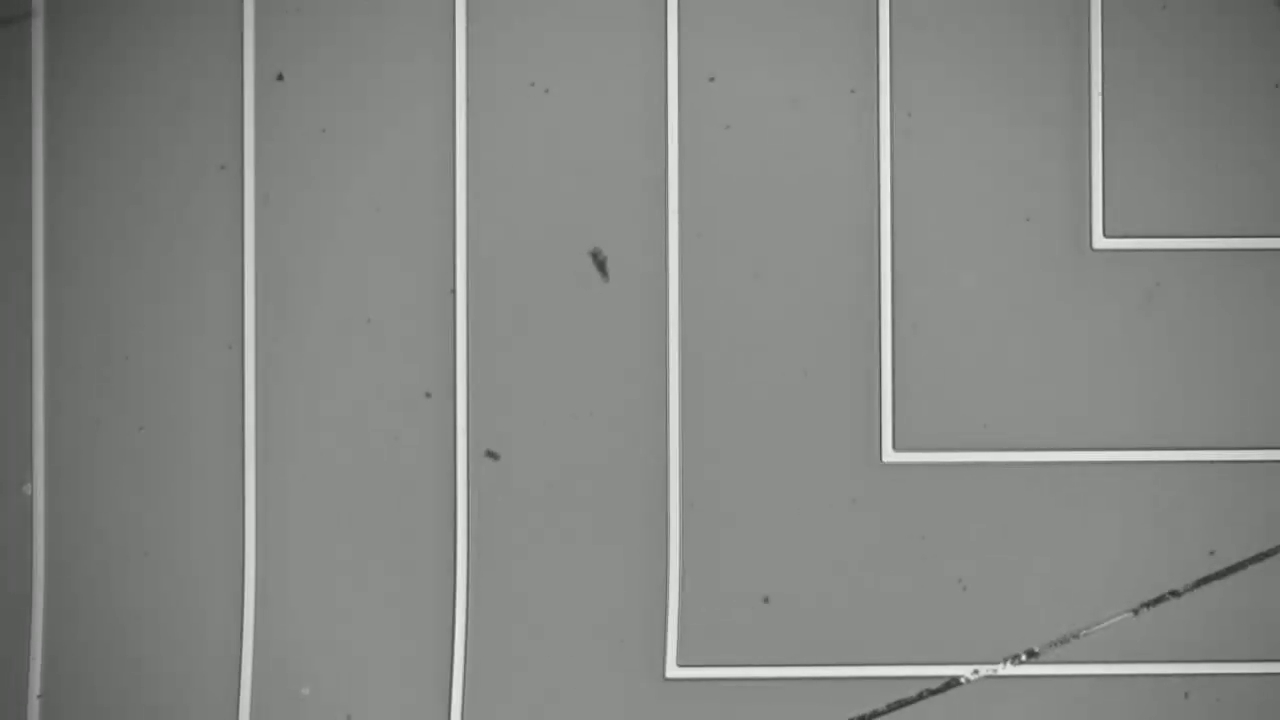scratch: (863, 546, 1280, 710)
